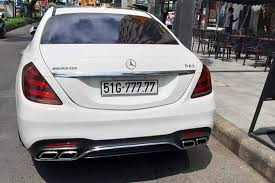number_plate: (98, 79, 163, 98)
